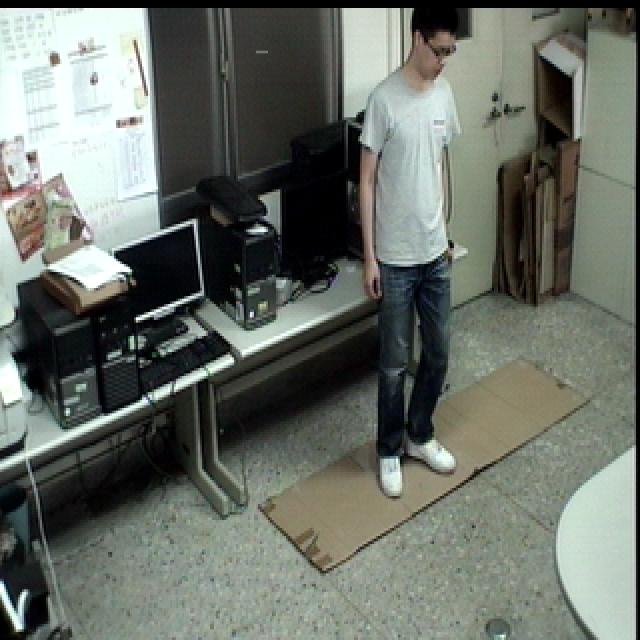stand: (352, 2, 472, 504)
